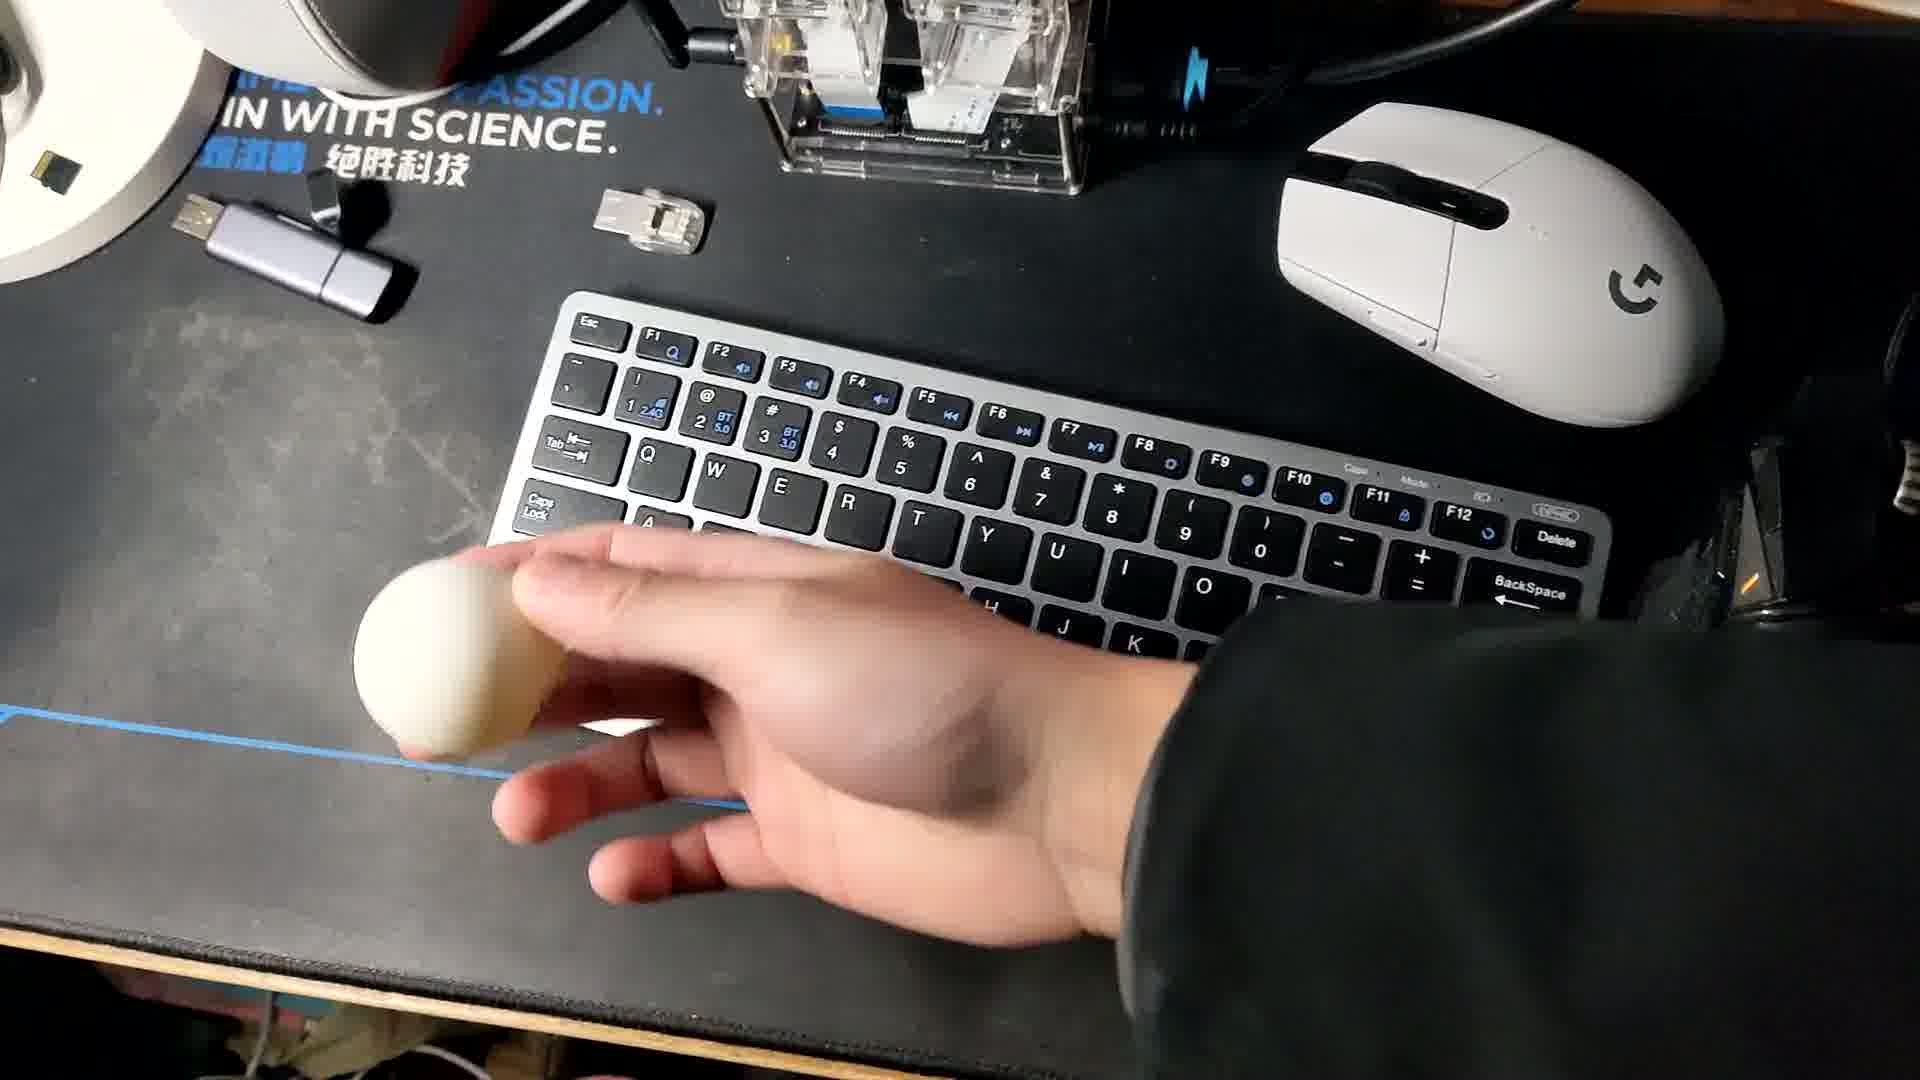Ball: (347, 555, 555, 752)
